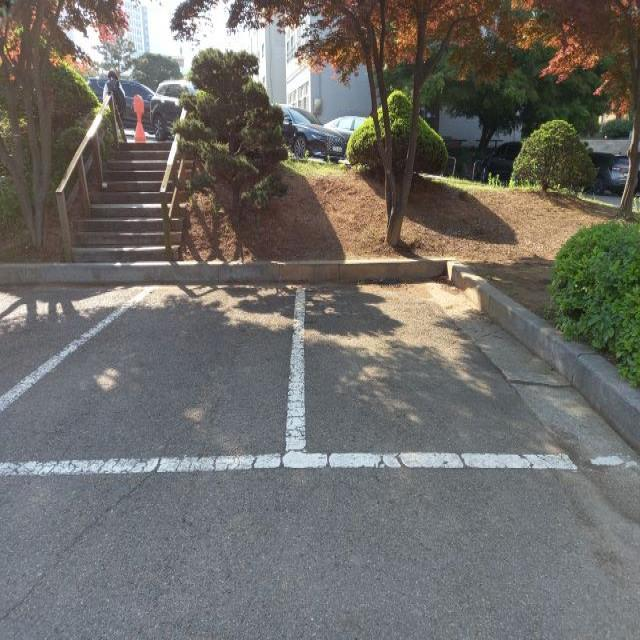empty: (288, 280, 566, 488), (28, 284, 282, 475)
